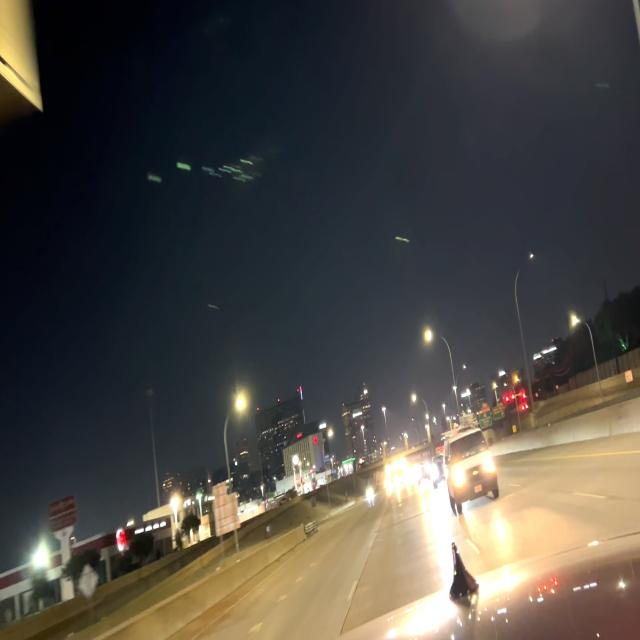back-of-sign: (211, 479, 240, 540), (76, 562, 100, 605)
